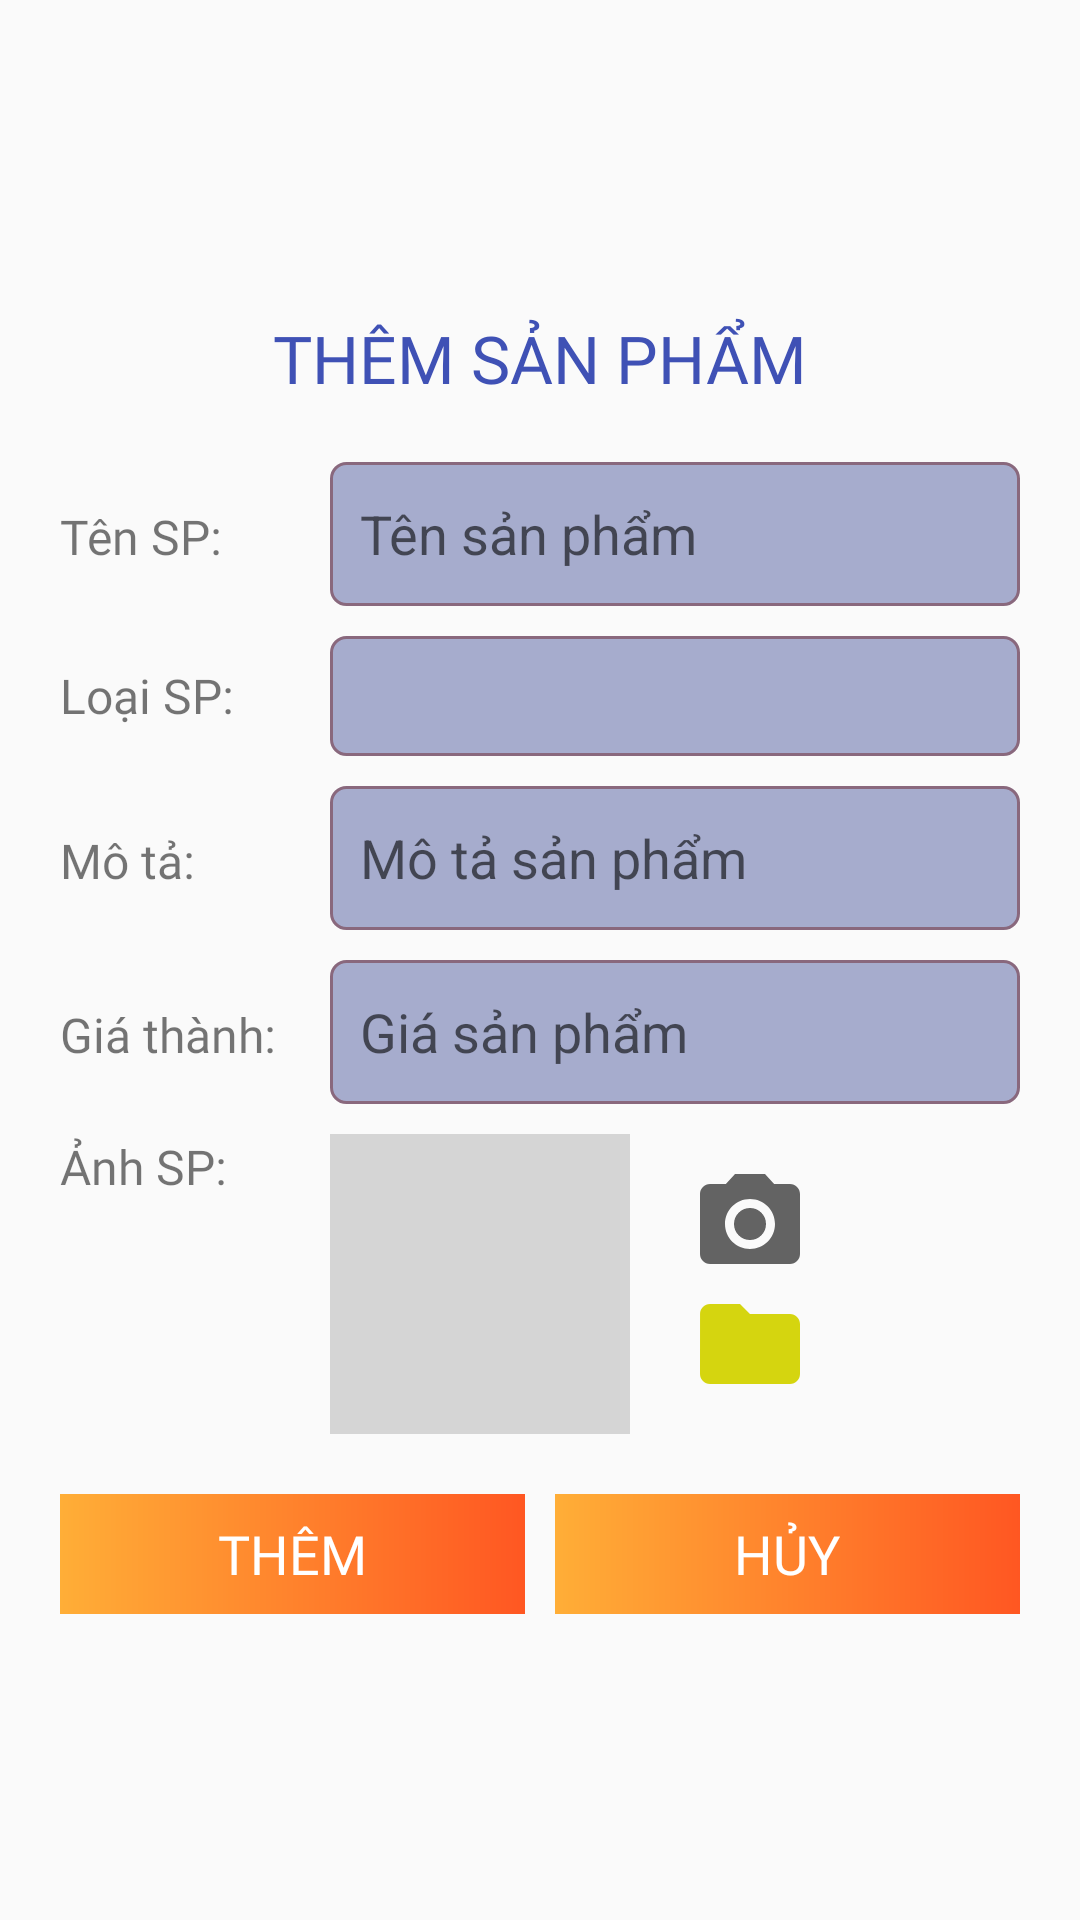

Named icons in this screenshot (1080px×1920px) and their bounding boxes, {"x1": x1, "y1": y1, "x2": x2, "y2": y2}:
camera: {"x1": 700, "y1": 1174, "x2": 800, "y2": 1264}
folder: {"x1": 700, "y1": 1304, "x2": 800, "y2": 1384}
